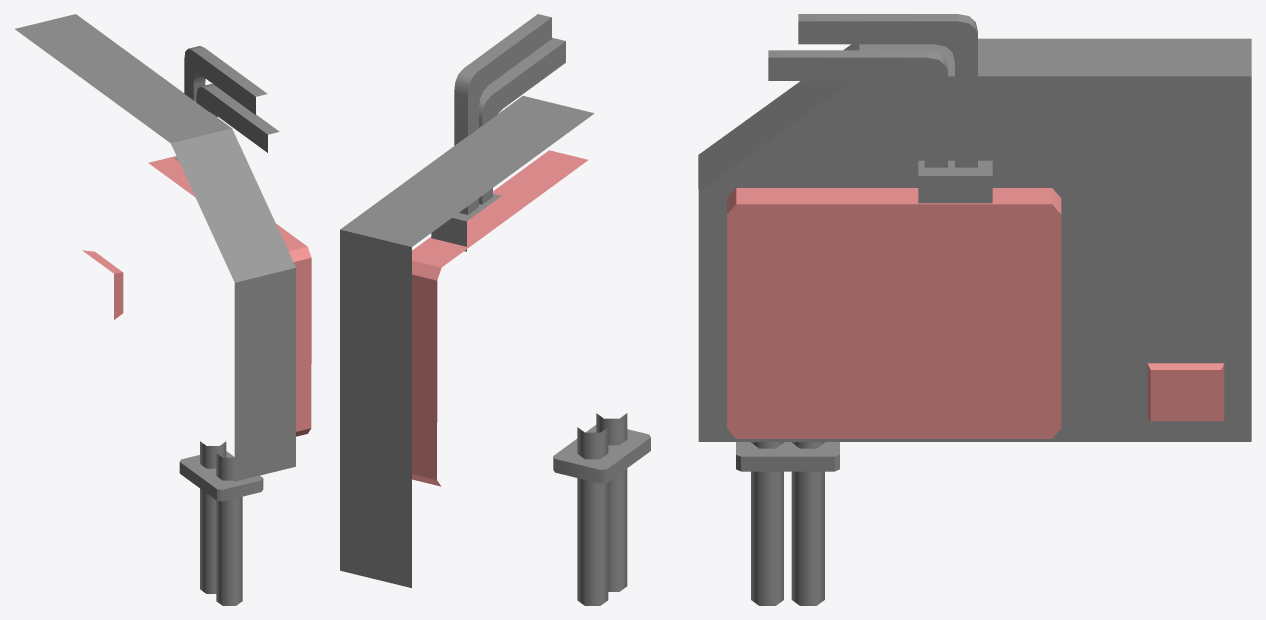
The model's file is S_Envi_Common_Component_01i.gltf.
3 renders of one model, left to right at view 1: azimuth 30°, elevation 25°; view 2: azimuth 150°, elevation 25°; view 3: azimuth 270°, elevation 25°, orthographic. The views are drawn at different scales.
Parts seen in each view (by area): view 1: S_Envi_Common_Component_01i; view 2: S_Envi_Common_Component_01i; view 3: S_Envi_Common_Component_01i.
Part boxes in pixels (x1,y1,x2,y2): S_Envi_Common_Component_01i: (15,14,311,605); S_Envi_Common_Component_01i: (340,14,650,605); S_Envi_Common_Component_01i: (698,14,1251,605).
Bounding box in the file's own units: 0.5983 × 3.12 × 2.57.
